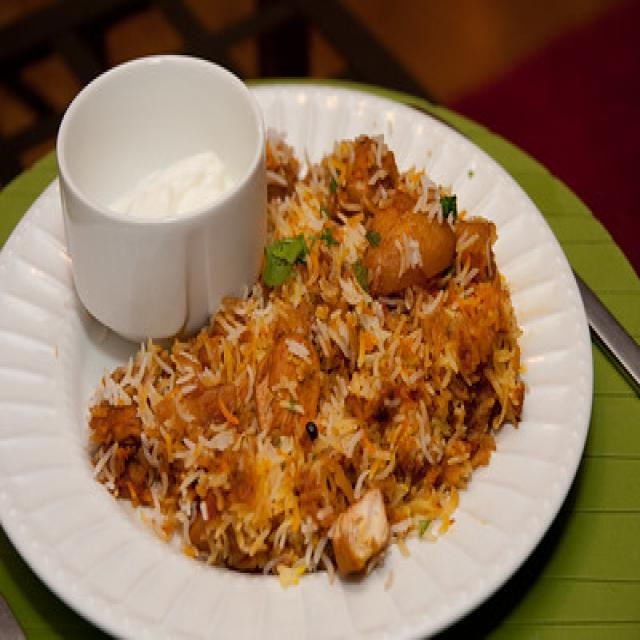Biryani: (262, 127, 506, 556)
